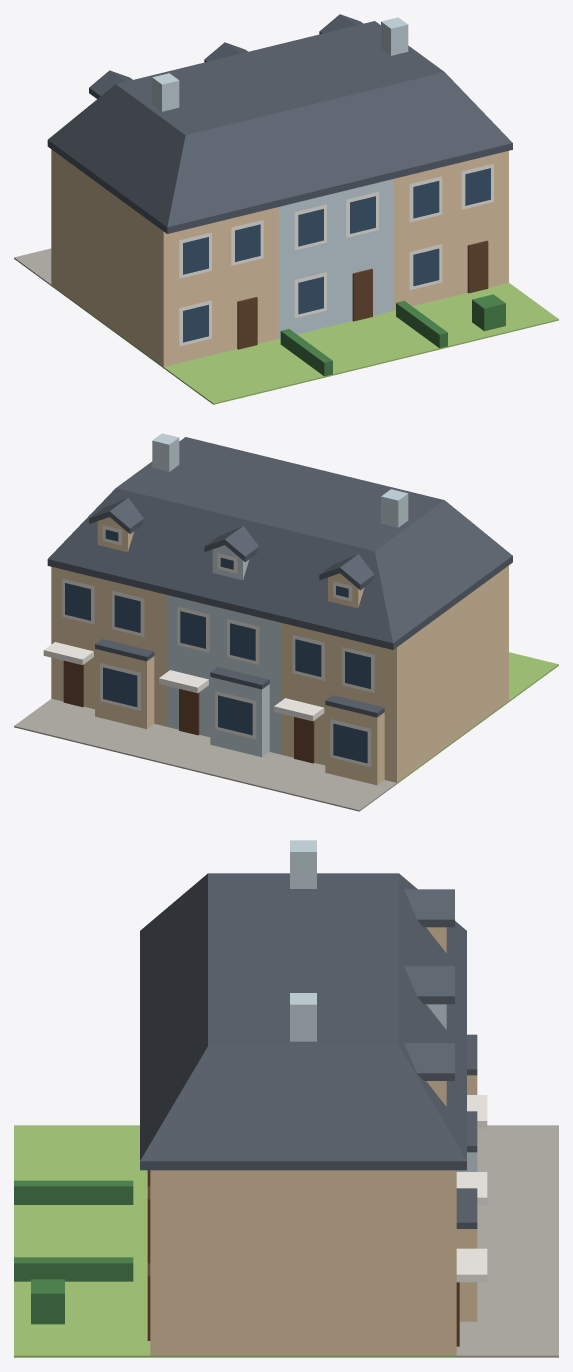
3 renders of one model, top to bottom at view 1: azimuth 30°, elevation 25°; view 2: azimuth 150°, elevation 25°; view 3: azimuth 270°, elevation 25°, orthographic. The views are drawn at different scales.
Visible parts, largest first — view 1: roof (×2), wall (×3), lawn, window_glass (×9), window_frame (×9), door (×3), hedge (×2), chimney (×2), tree_spot, paving; view 2: roof (×7), wall (×3), paving, window_glass (×9), bay (×3), window_frame (×9), door (×3), canopy (×3), chimney (×2), dormer (×3), lawn; view 3: roof (×5), wall, lawn, paving, hedge (×2), chimney (×2), canopy (×2), tree_spot, bay.
Boxes of the visible parts, <box> form: roof (×2): <box>47,21,512,233</box>; wall (×3): <box>51,149,508,366</box>; lawn: <box>51,283,558,404</box>; window_glass (×9): <box>183,168,490,342</box>; window_frame (×9): <box>179,163,493,346</box>; door (×3): <box>237,240,488,349</box>; hedge (×2): <box>280,300,447,376</box>; chimney (×2): <box>152,17,408,111</box>; tree_spot: <box>472,294,505,331</box>; paving: <box>14,248,51,285</box>; roof (×7): <box>47,437,512,717</box>; wall (×3): <box>51,565,508,782</box>; paving: <box>14,698,396,811</box>; window_glass (×9): <box>65,583,370,763</box>; bay (×3): <box>95,649,384,785</box>; window_frame (×9): <box>62,578,374,767</box>; door (×3): <box>63,661,314,763</box>; canopy (×3): <box>43,642,324,721</box>; chimney (×2): <box>152,433,408,527</box>; dormer (×3): <box>97,520,364,608</box>; lawn: <box>397,652,558,783</box>; roof (×5): <box>140,873,477,1228</box>; wall: <box>150,1170,456,1355</box>; lawn: <box>14,1125,456,1357</box>; paving: <box>456,1125,558,1357</box>; hedge (×2): <box>14,1180,133,1281</box>; chimney (×2): <box>290,840,316,1041</box>; canopy (×2): <box>456,1172,487,1282</box>; tree_spot: <box>31,1279,64,1324</box>; bay: <box>456,1229,477,1321</box>.
Bounding box in the file's own units: 16 × 10.36 × 16.
